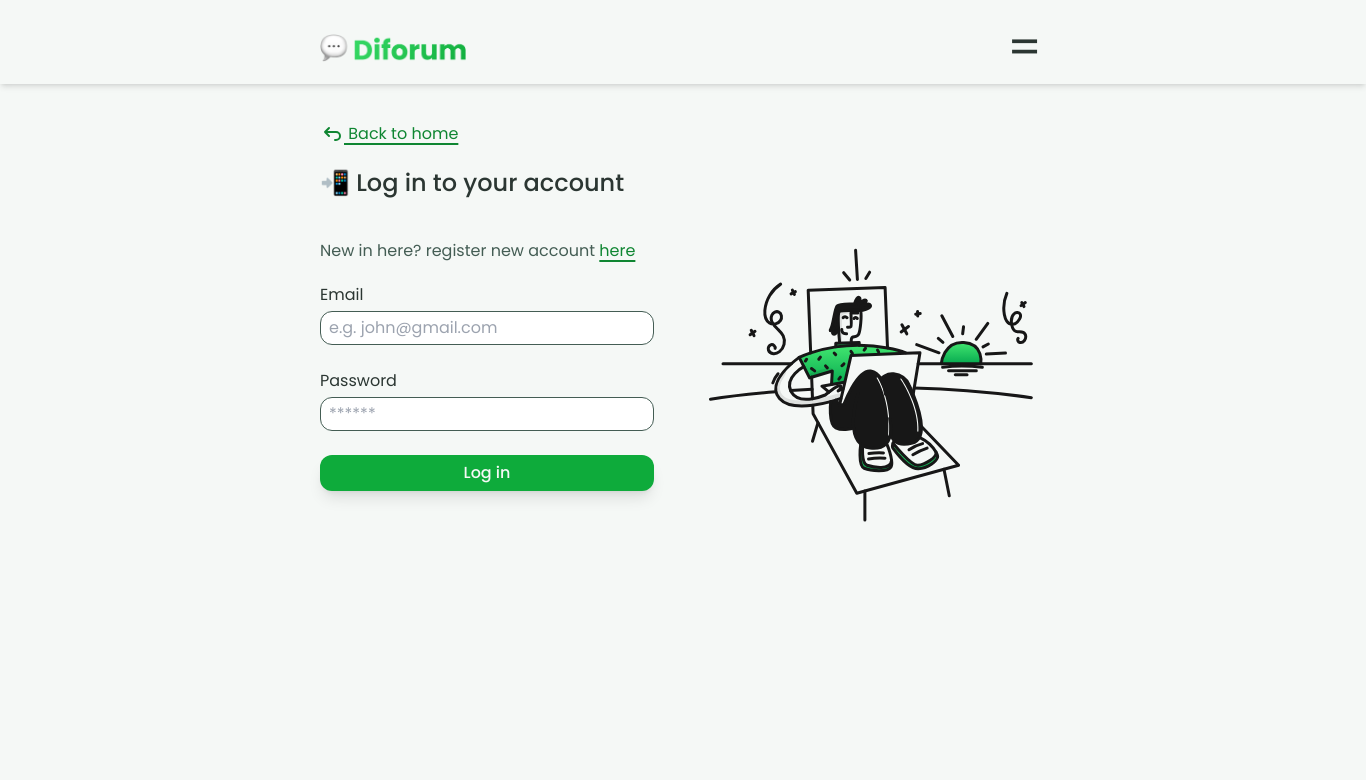
Test: Login spec › should display error messages when email and password is empty
The width and height of the screenshot is (1366, 780).
Click the button "Log in". click: click(487, 473)
box: [320,455,654,491]
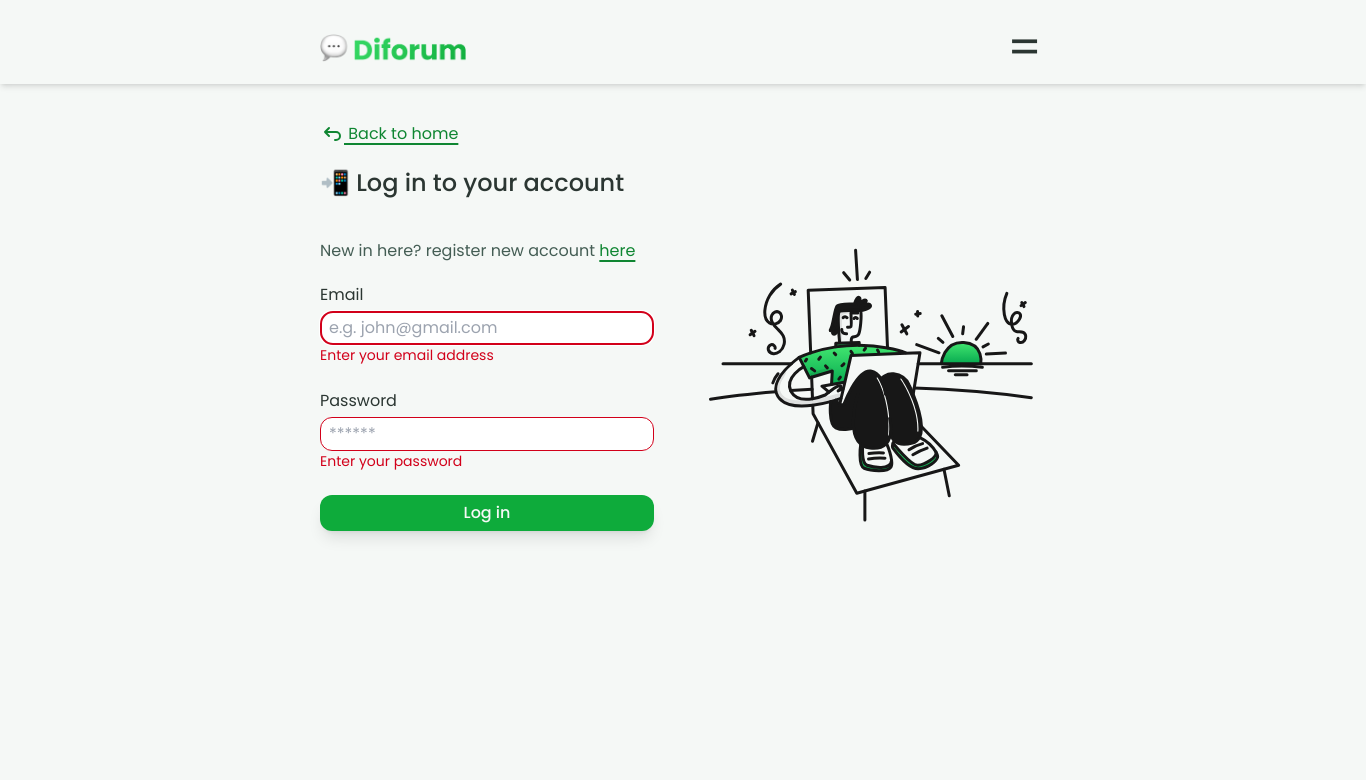
Expected: the text "Enter your email address" is shown, [320,283,654,365]
Expected: the text "Enter your password" is shown, [320,389,654,471]
